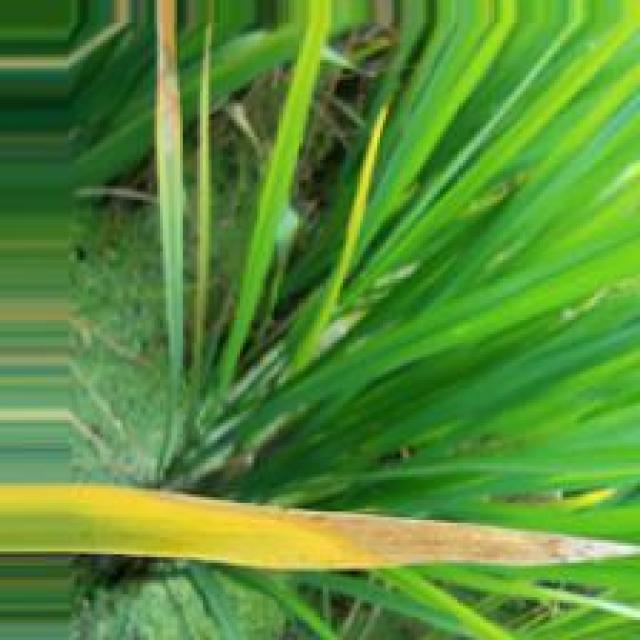Rice False Smut: (265, 509, 584, 566)
